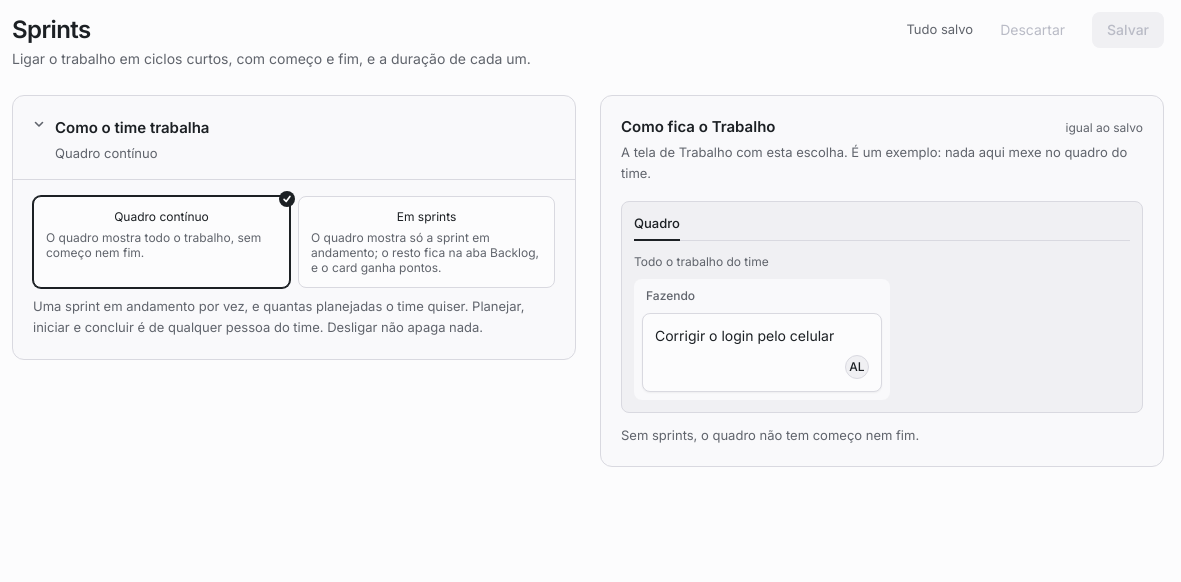
Test case: SprintSettingsScreen › marcar num projeto com cards em trabalho avisa quantos vão para o Backlog
Click the radio button labelled "Em sprints".
click(426, 242)  # box [299,197,554,287]
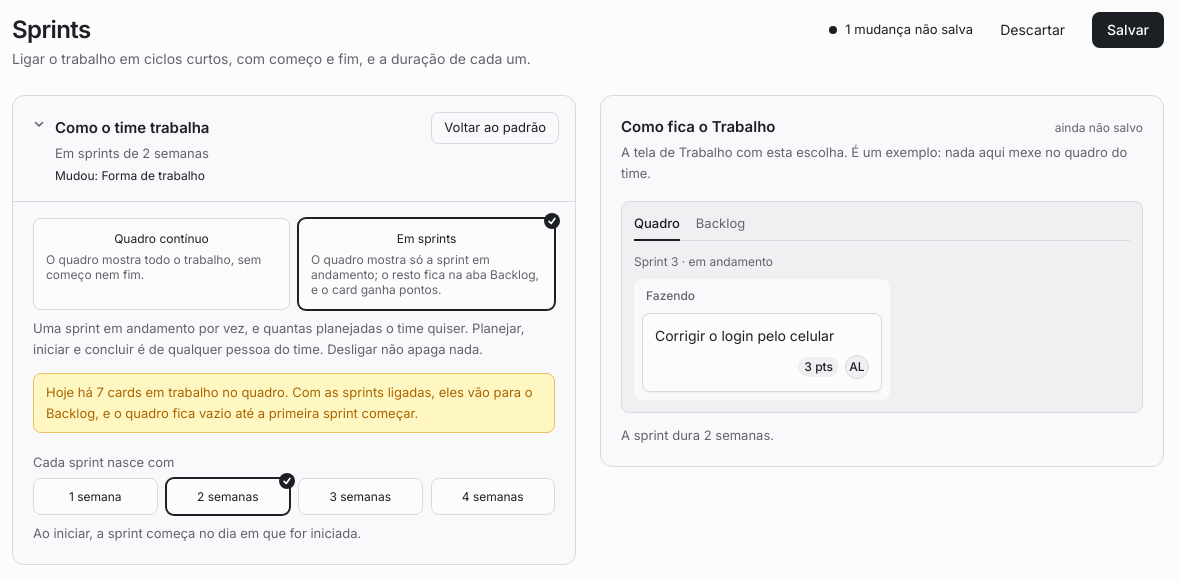
Expected: the text "Hoje há 7 cards em trabalho no quadro" shows "eles vão para o Backlog", [46,384,533,421]
